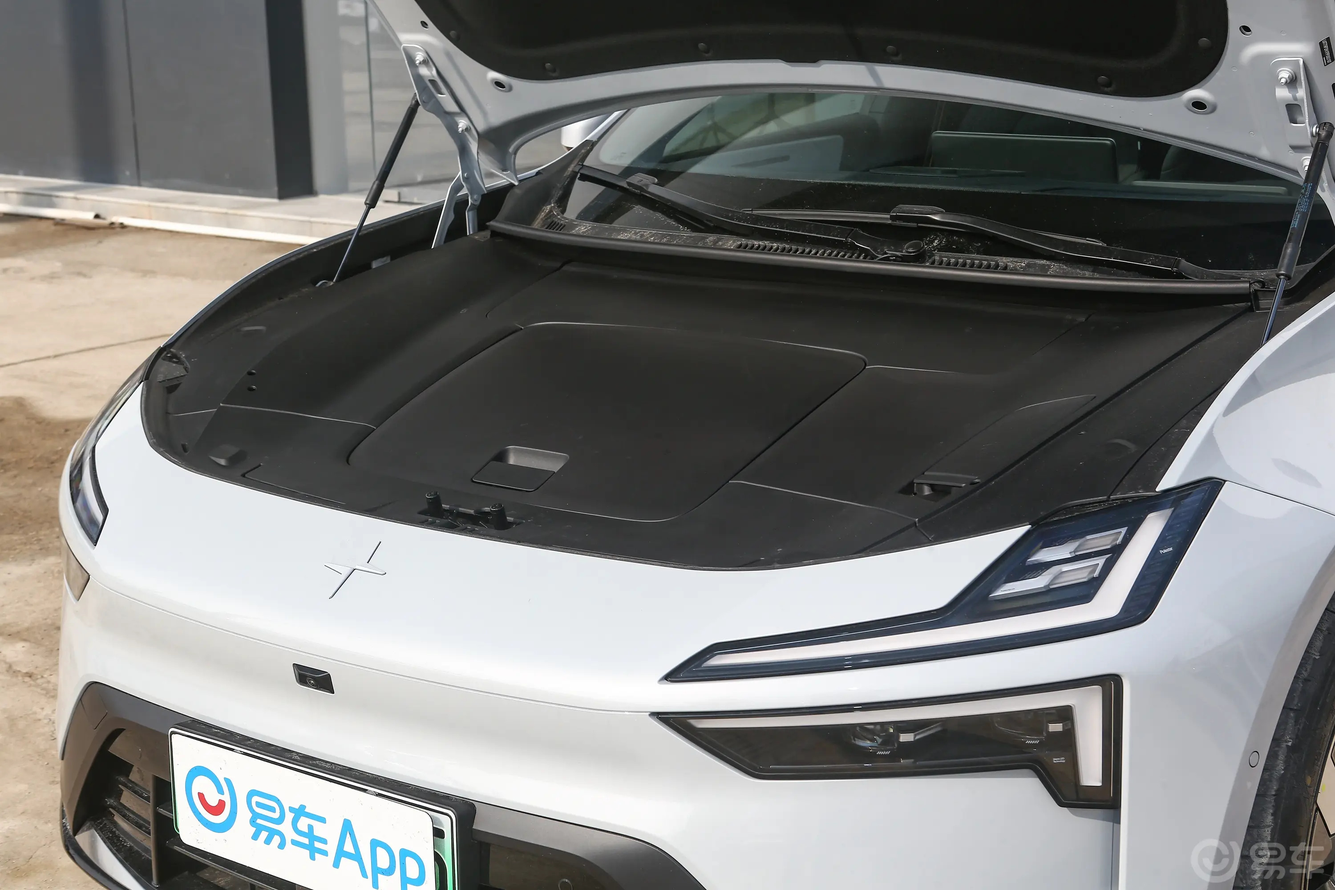Polestar: (324, 541, 386, 599)
